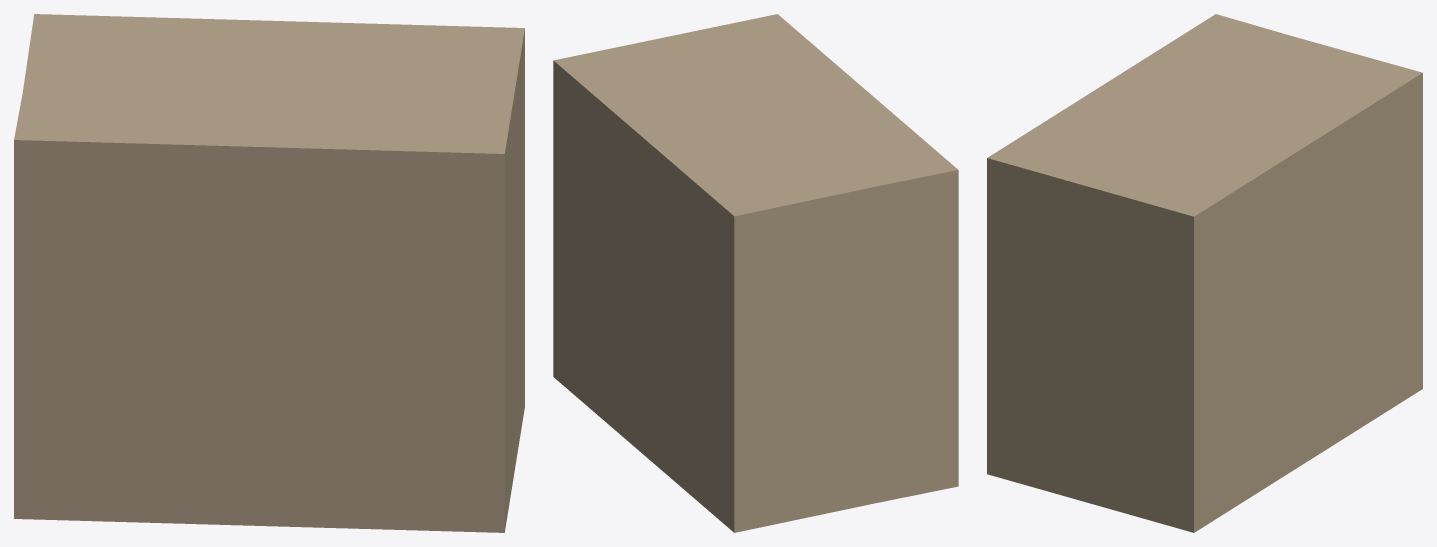
File: bld_100469375.dae
3 views of the same model, side by side, from view 1: azimuth 30°, elevation 25°; view 2: azimuth 150°, elevation 25°; view 3: azimuth 270°, elevation 25° (orthographic). The views are drawn at different scales.
Visible parts, largest first — view 1: bld_100469375; view 2: bld_100469375; view 3: bld_100469375.
Boxes of the visible parts, bbox=[...] form: bld_100469375: bbox=[14, 14, 524, 532]; bld_100469375: bbox=[553, 14, 958, 532]; bld_100469375: bbox=[987, 14, 1422, 532].
Size of the model in its own units: 11 by 9.99 by 8.
